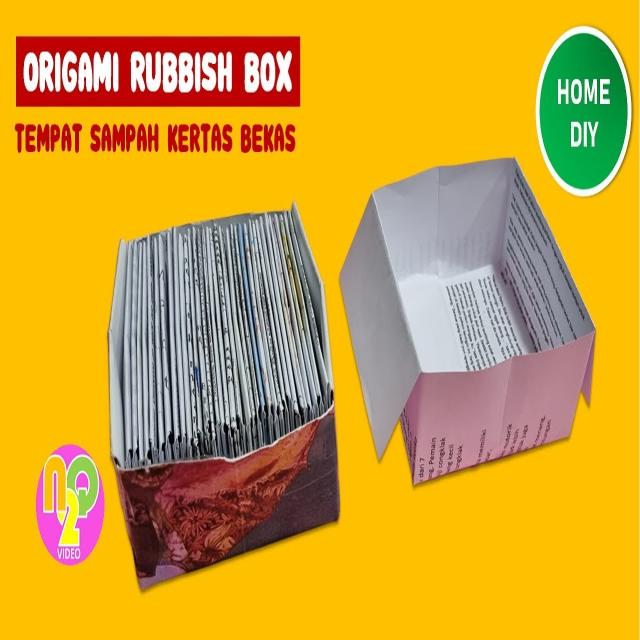Kertas: (327, 84, 612, 558), (115, 205, 375, 530)
